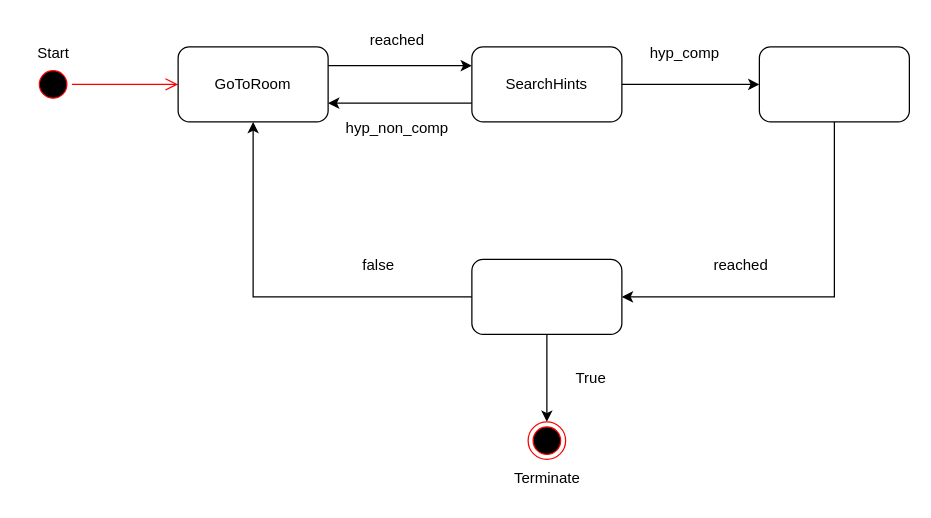
Image size: 931x518. Some labels were removed from this diagram. The centre of each missing label's shape, as x and y in pixels:
CheckHypothesis: the point at 546,296
GoToOracle: the point at 833,84
